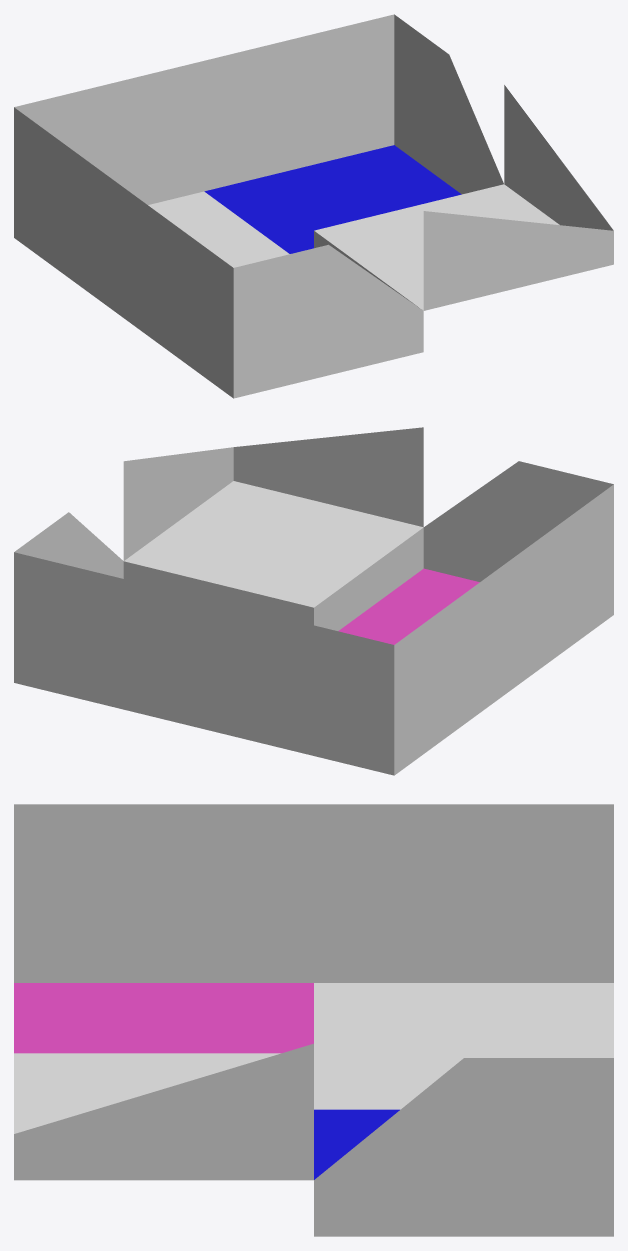
3 views of the same model, one above another, from view 1: azimuth 30°, elevation 25°; view 2: azimuth 150°, elevation 25°; view 3: azimuth 270°, elevation 25° (orthographic). The views are drawn at different scales.
Visible parts, largest first — view 1: Plane; view 2: Plane; view 3: Plane.
Boxes of the visible parts, x1,y1,x2,y2 form: Plane: (14, 14, 613, 398); Plane: (14, 427, 613, 775); Plane: (14, 804, 613, 1236).
Size of the model in its own units: 600 by 213 by 600.
